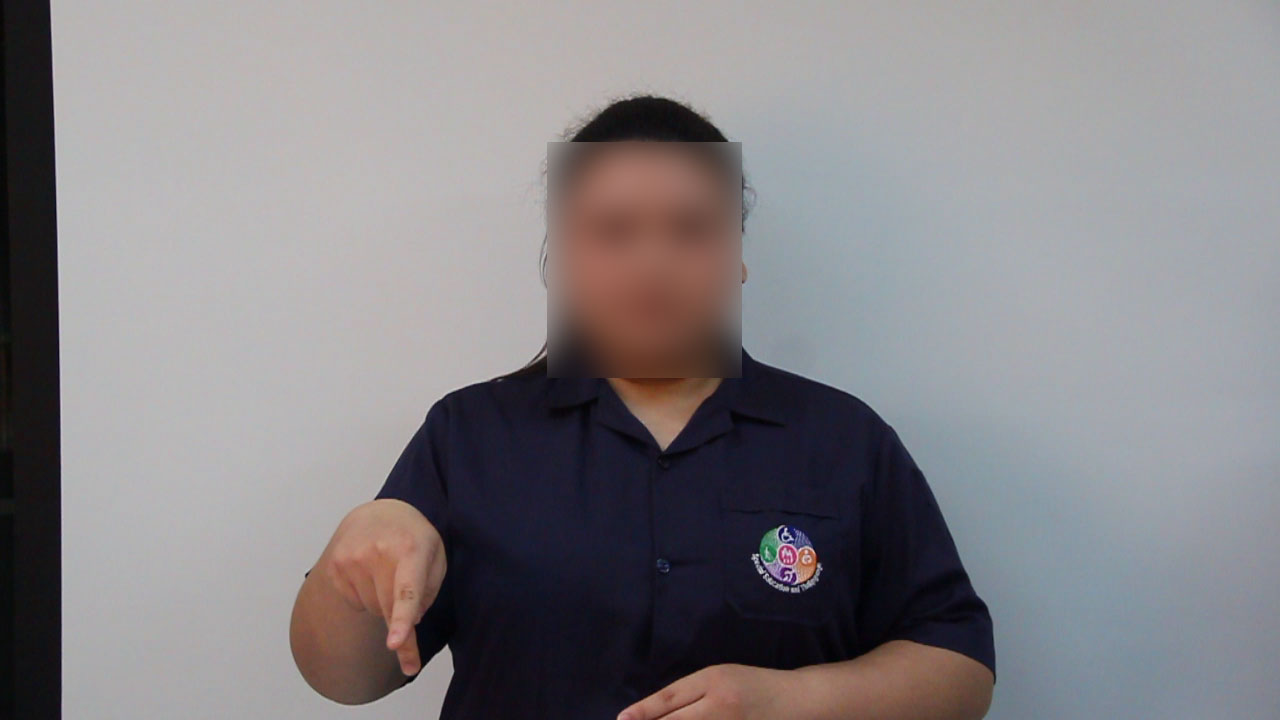por: (314, 492, 454, 683)
